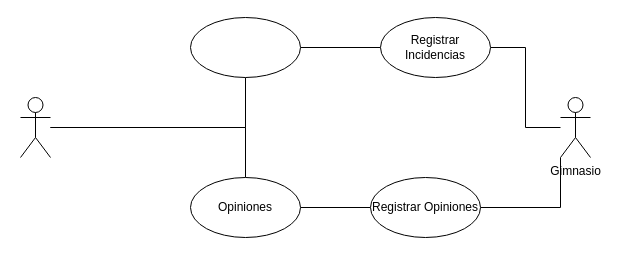
Some shapes in this 618 by 255 pixel diagram are drawn without their labels. The centre of each missing label's shape, as x and y in pixels:
Cliente: [35,127]
Incidencias: [245,47]
